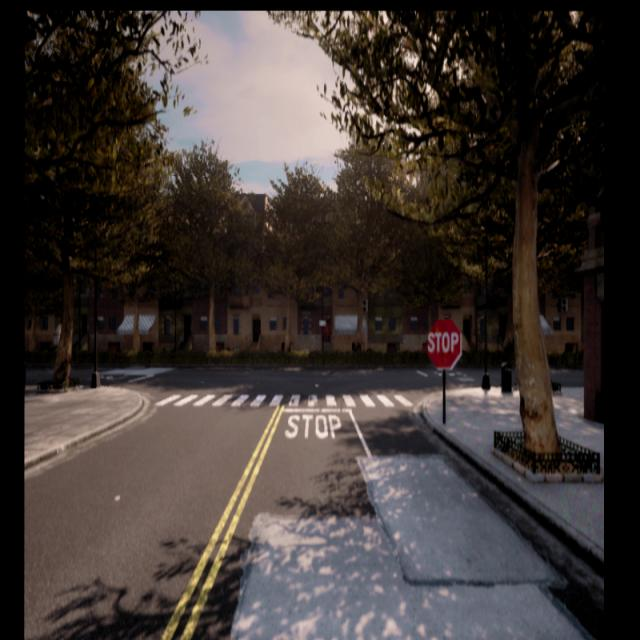stop sign: (424, 315, 463, 372), (426, 329, 460, 354)
